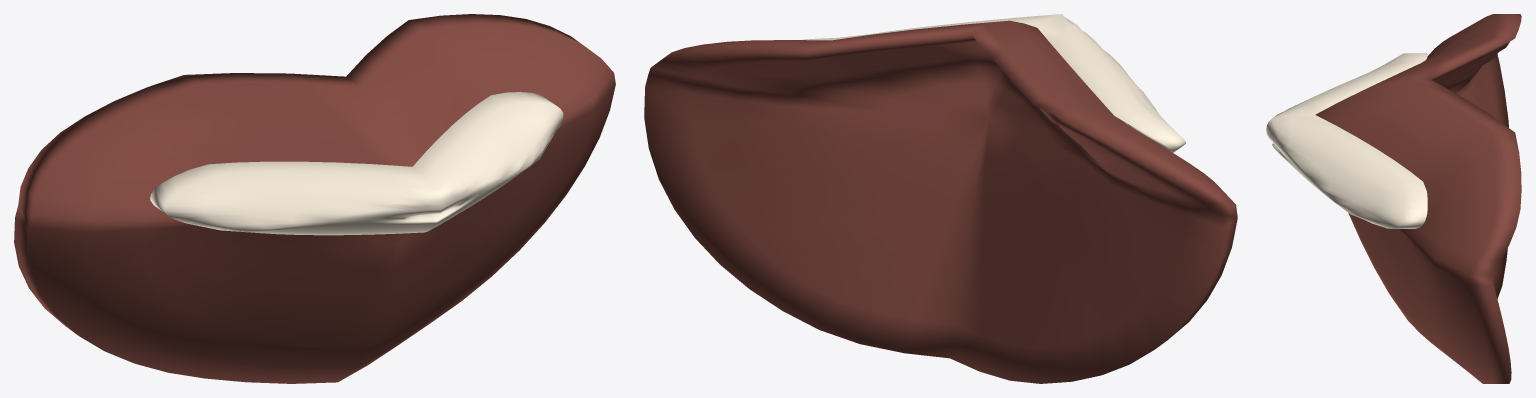
Rendered from 4HT-masculino.glb.
The picture shows the model from 3 angles, left to right: view 1: azimuth 30°, elevation 25°; view 2: azimuth 150°, elevation 25°; view 3: azimuth 270°, elevation 25°; orthographic projection. The views are drawn at different scales.
Parts seen in each view (by area): view 1: open-smile, smile-detail; view 2: open-smile, smile-detail; view 3: open-smile, smile-detail.
Part boxes in pixels (x1=…): open-smile: x1=14, y1=14, x2=615, y2=383; smile-detail: x1=150, y1=92, x2=563, y2=235; open-smile: x1=644, y1=20, x2=1237, y2=383; smile-detail: x1=803, y1=14, x2=1185, y2=152; open-smile: x1=1315, y1=14, x2=1521, y2=383; smile-detail: x1=1266, y1=53, x2=1427, y2=228.
Bounding box in the file's own units: 0.00617 × 0.00313 × 0.0027.
